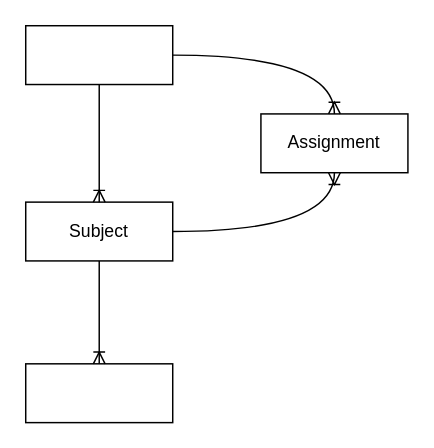
Some shapes in this 434 by 448 pixel diagram are drawn without their labels. The centre of each missing label's shape, as x and y in pixels:
"Class" belongs at (98,392).
"User" belongs at (98,54).
